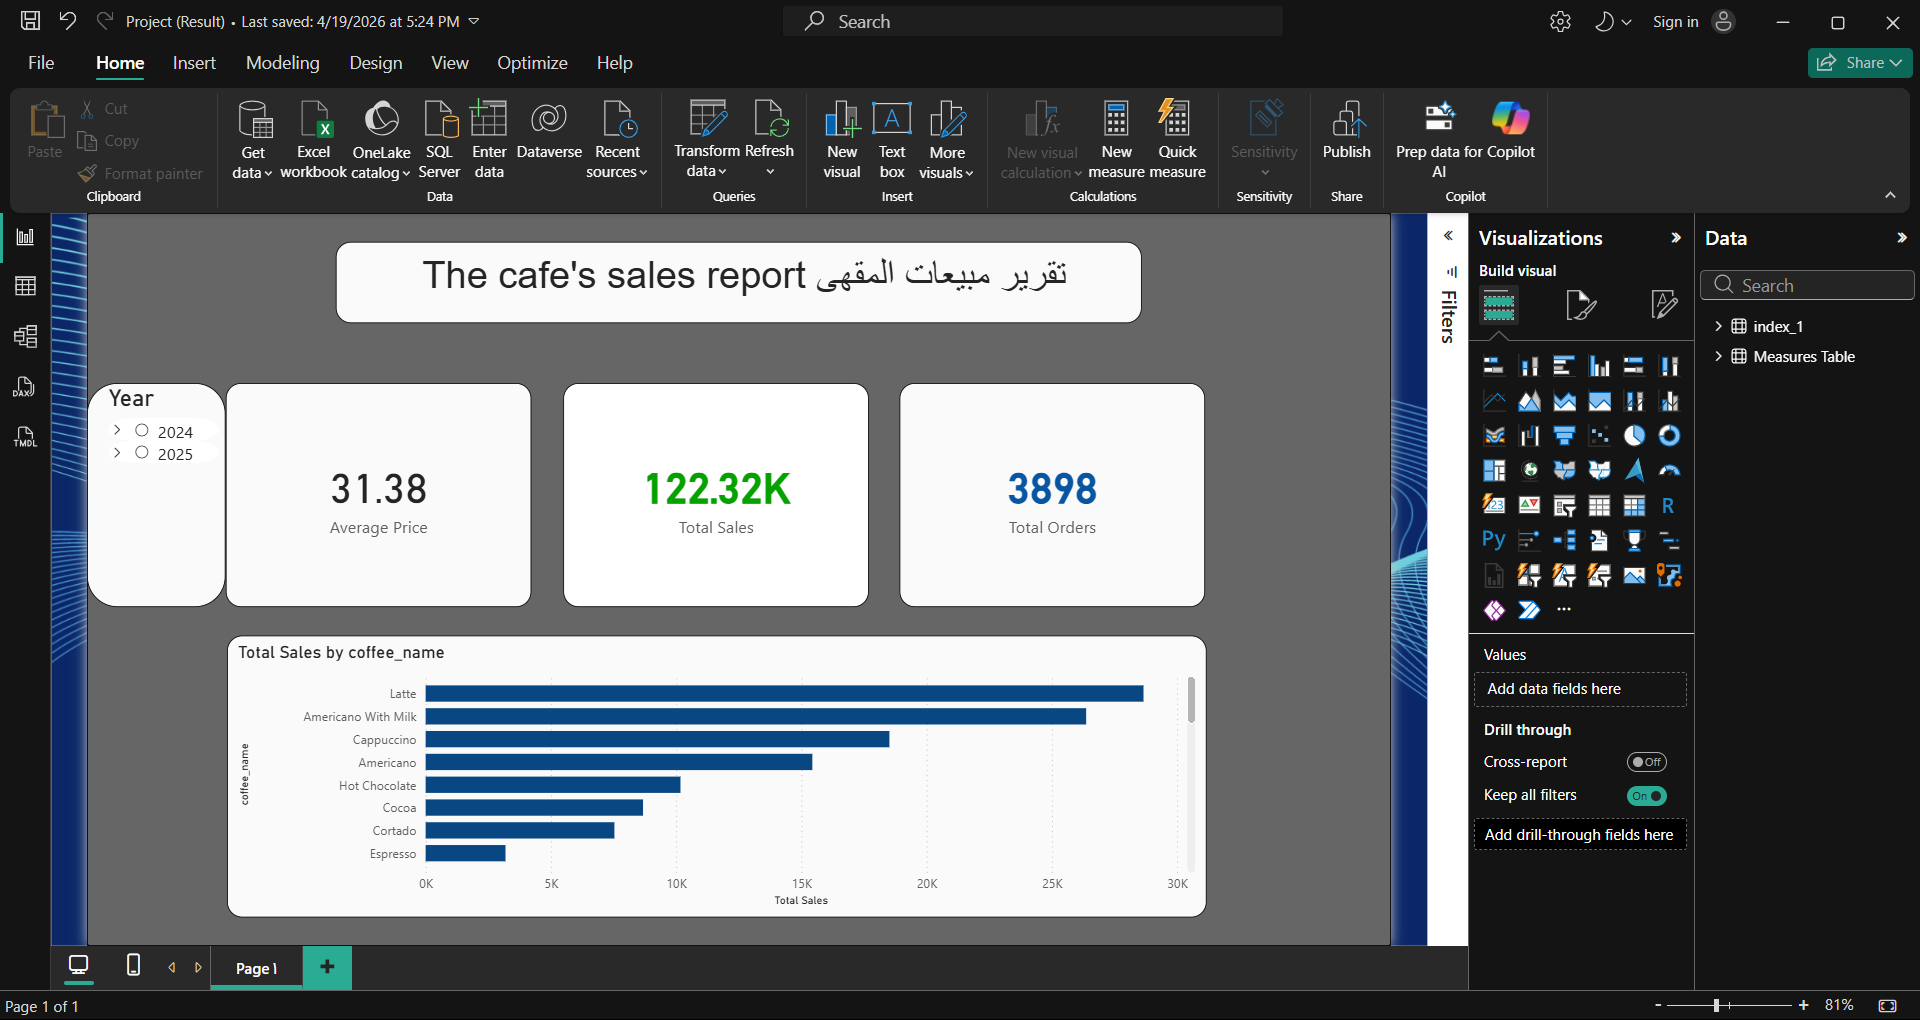

Layout of this report page (visuals, bound fields, positions):
{"tool":"powerbi","page":{"name":"Page ١","canvas":[1280,720],"ordinal":0},"visuals":[{"type":"card","fields":{"Values":["Measures Table.Total Sales"]},"box":[467.4,166.7,300,220],"z":0,"group":"g2"},{"type":"card","fields":{"Values":["Measures Table.Total Orders"]},"box":[798.1,166.7,300,220],"z":1000,"group":"g2"},{"type":"clusteredBarChart","fields":{"Y":["Measures Table.Total Sales"],"Category":["index_1.coffee_name"]},"box":[137.1,414.3,961.4,277.1],"z":1000},{"type":"textbox","box":[244.3,28.6,791.4,80],"z":2000},{"type":"card","fields":{"Values":["Measures Table.Average Price"]},"box":[136.7,166.7,300,220],"z":2000,"group":"g2"},{"type":"group","id":"g1","title":"Group 1","box":[136.7,166.7,960,220],"z":3000},{"type":"group","id":"g2","title":"Group 2","box":[136.7,166.7,961.4,220],"z":3001,"group":"g1"},{"type":"listSlicer","fields":{"Values":["index_1.date.Variation.Date Hierarchy.Year","index_1.date.Variation.Date Hierarchy.Quarter","index_1.date.Variation.Date Hierarchy.Month","index_1.date.Variation.Date Hierarchy.Day"]},"box":[0,166.9,136.2,219.6],"z":3001}]}

Visuals, with their boxes on the page's 1280x720 design canvas (x1, y1, x2, y2). These are canvas units, not pixel positions in the 1920x1020 screenshot, which may show the page scaled, cropped or inside an application window:
card - Measures Table.Total Sales: (x1=467, y1=167, x2=767, y2=387)
card - Measures Table.Total Orders: (x1=798, y1=167, x2=1098, y2=387)
clusteredBarChart - Measures Table.Total Sales x index_1.coffee_name: (x1=137, y1=414, x2=1098, y2=691)
textbox: (x1=244, y1=29, x2=1036, y2=109)
card - Measures Table.Average Price: (x1=137, y1=167, x2=437, y2=387)
"Group 1" group: (x1=137, y1=167, x2=1097, y2=387)
"Group 2" group: (x1=137, y1=167, x2=1098, y2=387)
listSlicer - index_1.date.Variation.Date Hierarchy.Year x index_1.date.Variation.Date Hierarchy.Quarter: (x1=0, y1=167, x2=136, y2=386)
